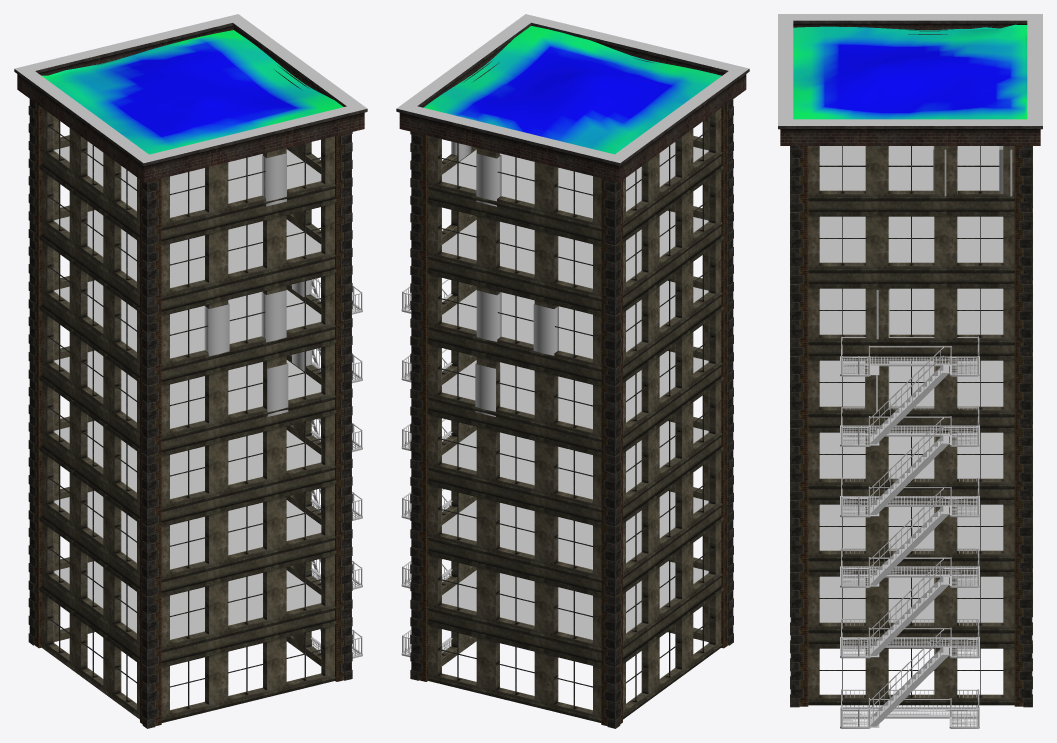
Rendered from BuildingTanSm01_stairs.fbx.
3 views of the same model, side by side, from view 1: azimuth 30°, elevation 25°; view 2: azimuth 150°, elevation 25°; view 3: azimuth 270°, elevation 25° (orthographic). The views are drawn at different scales.
Visible parts, largest first — view 1: Cube.554, Cube.555, Cube.608, Cube.607, Plane.100, Plane.101, Plane.095, Plane.098, Plane.096, Plane.097, Plane.099, Cube.681 (+4 smaller); view 2: Cube.554, Cube.555, Cube.608, Cube.607, Plane.100, Plane.101, Plane.095, Plane.098, Plane.096, Plane.097, Plane.099, Cube.681 (+4 smaller); view 3: Cube.554, Cube.681, Cube.608, Cube.555, Cube.607, Plane.098, Plane.097, Plane.099, Plane.100, Plane.101, Plane.095, Plane.096.
Boxes of the visible parts, x1,y1,x2,y2 form: Cube.554: (39,59,336,722); Cube.555: (28,99,352,728); Cube.608: (42,30,343,154); Cube.607: (14,14,367,182); Plane.100: (54,561,321,639); Plane.101: (54,491,321,569); Plane.095: (54,421,321,498); Plane.098: (54,210,321,287); Plane.096: (54,350,321,428); Plane.097: (54,280,321,358); Plane.099: (54,141,321,217); Cube.681: (310,278,362,658); Cube.554: (427,58,723,722); Cube.555: (410,99,733,728); Cube.608: (423,26,721,154); Cube.607: (396,14,749,182); Plane.100: (442,561,708,639); Plane.101: (442,491,708,569); Plane.095: (442,421,708,499); Plane.098: (442,210,708,288); Plane.096: (442,351,708,428); Plane.097: (442,280,708,358); Plane.099: (442,142,708,218); Cube.681: (401,279,452,657); Cube.554: (800,30,1022,705); Cube.681: (840,336,979,728); Cube.608: (793,24,1027,119); Cube.555: (790,146,1032,707); Cube.607: (778,14,1042,145); Plane.098: (819,216,1003,262); Plane.097: (819,288,1003,334); Plane.099: (819,146,999,190); Plane.100: (819,576,1003,622); Plane.101: (819,504,1003,550); Plane.095: (819,432,1003,478); Plane.096: (819,360,1003,406).
Size of what is drawn, in the model's own units: 1521 by 3355 by 1360.
